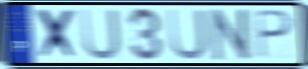3: (126, 6, 164, 63)
N: (210, 7, 255, 63)
P: (253, 9, 295, 61)
U: (78, 7, 123, 61), (166, 7, 210, 62)
X: (35, 7, 80, 62)
